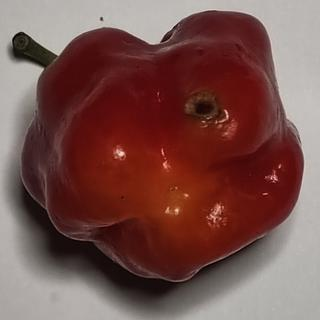Defect: (182, 88, 227, 124)
